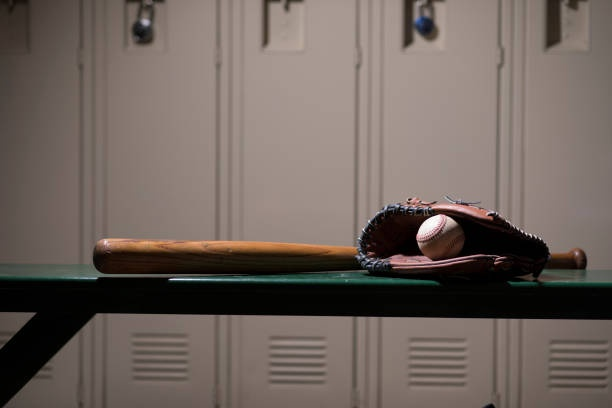bita: (88, 235, 583, 276)
